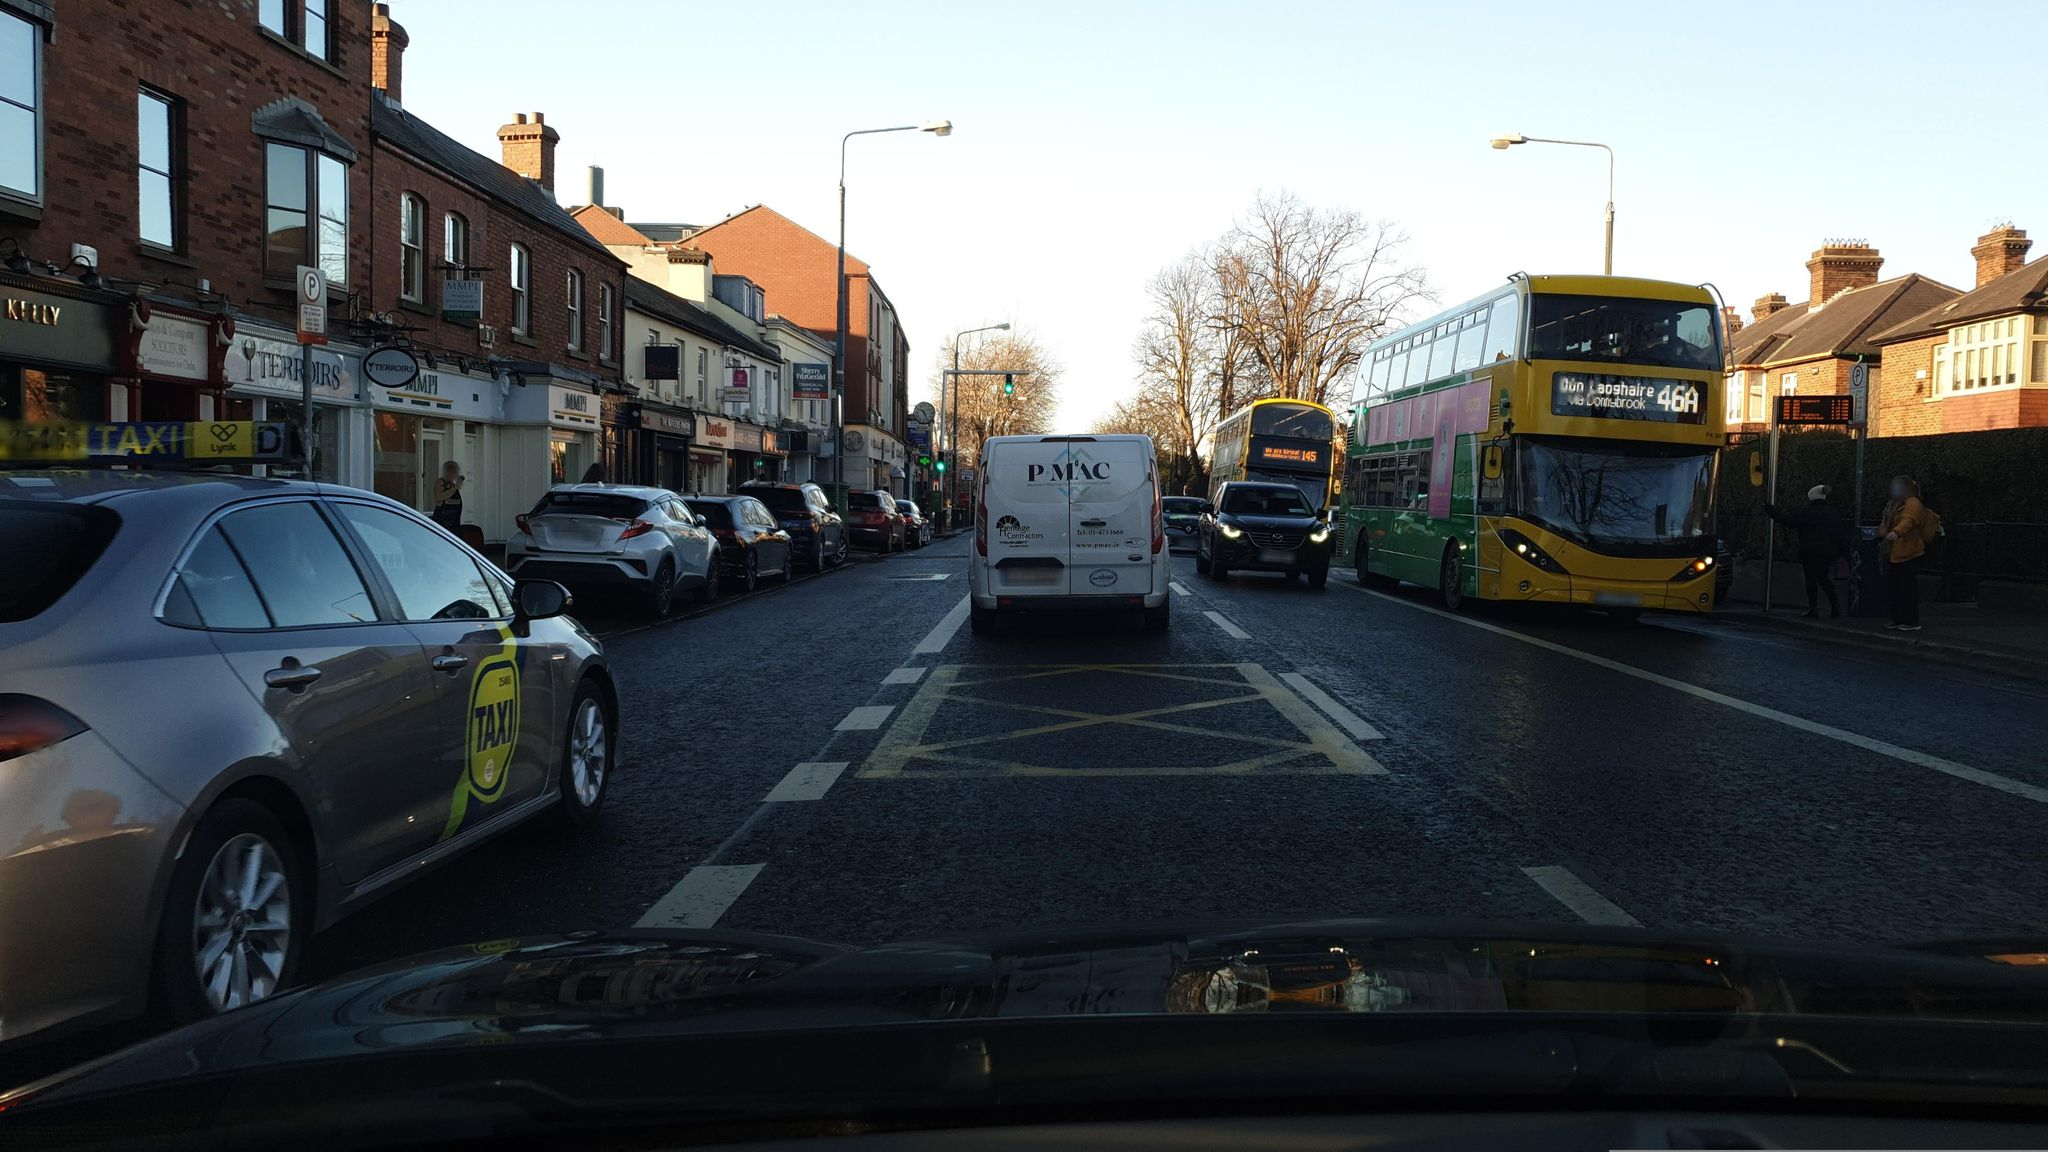property sign: (786, 353, 838, 401)
